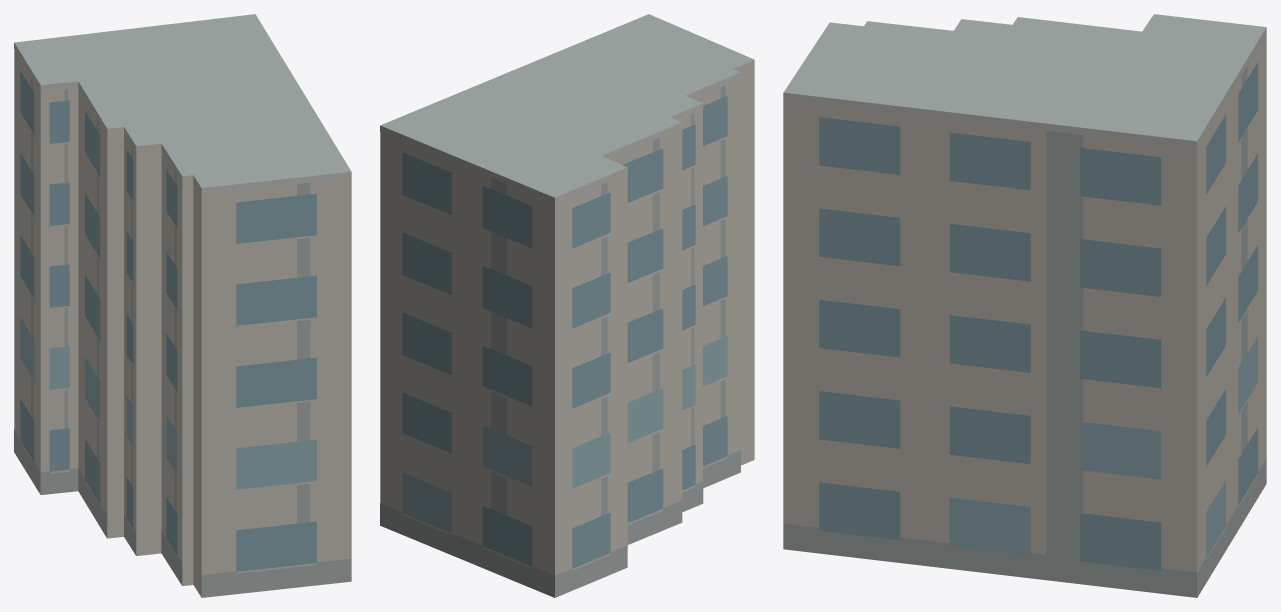
The model's file is survey-upis-32965490.glb.
The picture shows the model from 3 angles, left to right: view 1: azimuth 30°, elevation 25°; view 2: azimuth 150°, elevation 25°; view 3: azimuth 270°, elevation 25°; orthographic projection. The views are drawn at different scales.
Visible parts, largest first — view 1: survey-upis-32965490.tmp; view 2: survey-upis-32965490.tmp; view 3: survey-upis-32965490.tmp.
Boxes of the visible parts, bbox=[...] form: survey-upis-32965490.tmp: bbox=[14, 14, 351, 597]; survey-upis-32965490.tmp: bbox=[380, 14, 754, 597]; survey-upis-32965490.tmp: bbox=[783, 14, 1266, 597].
Bounding box in the file's own units: 9.13 × 15.25 × 14.64.
